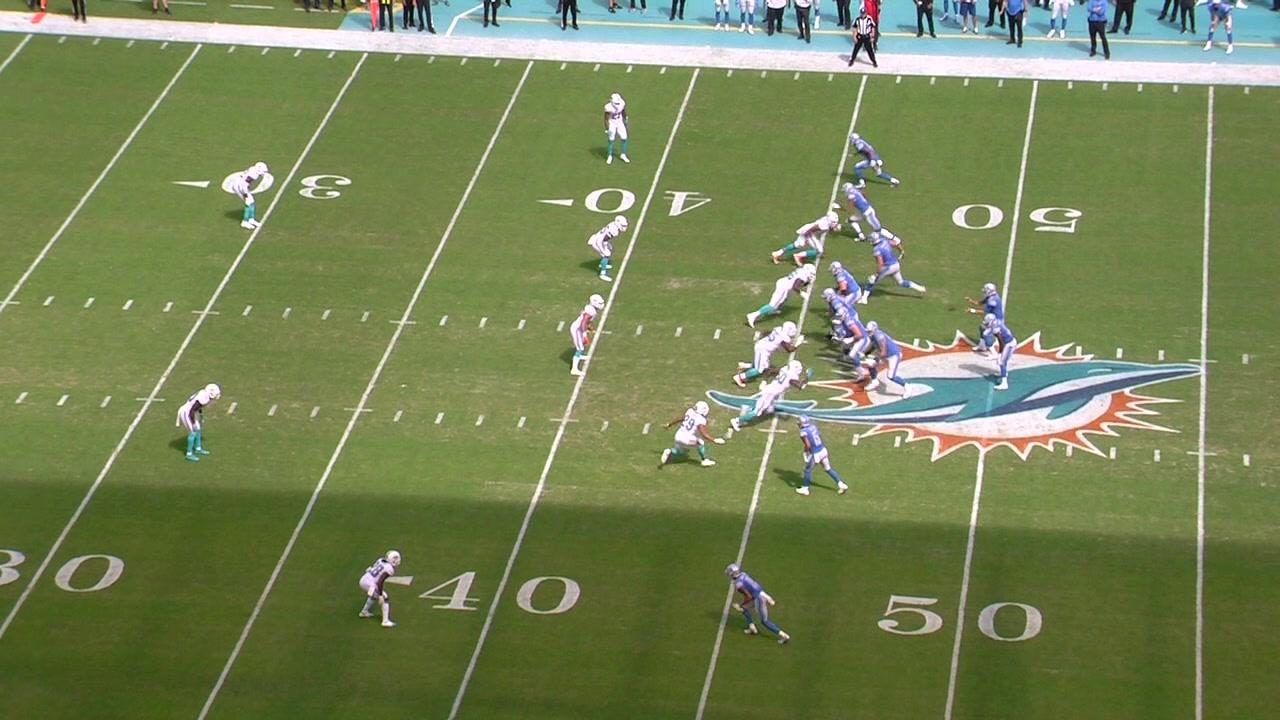defense: (728, 359, 817, 434), (732, 320, 807, 389), (745, 262, 819, 330), (658, 399, 727, 470), (770, 209, 844, 269), (172, 381, 222, 465), (355, 548, 406, 629), (565, 292, 607, 377), (586, 214, 629, 283), (231, 160, 270, 231), (600, 90, 633, 167)
oline: (857, 230, 927, 307), (864, 319, 914, 401), (833, 305, 873, 386), (820, 286, 861, 335), (828, 258, 862, 309)
qb: (963, 279, 1008, 363)
ref: (846, 9, 883, 68)
skill: (725, 562, 794, 647), (793, 413, 851, 498), (840, 180, 903, 246), (846, 129, 901, 189), (979, 312, 1017, 392)
